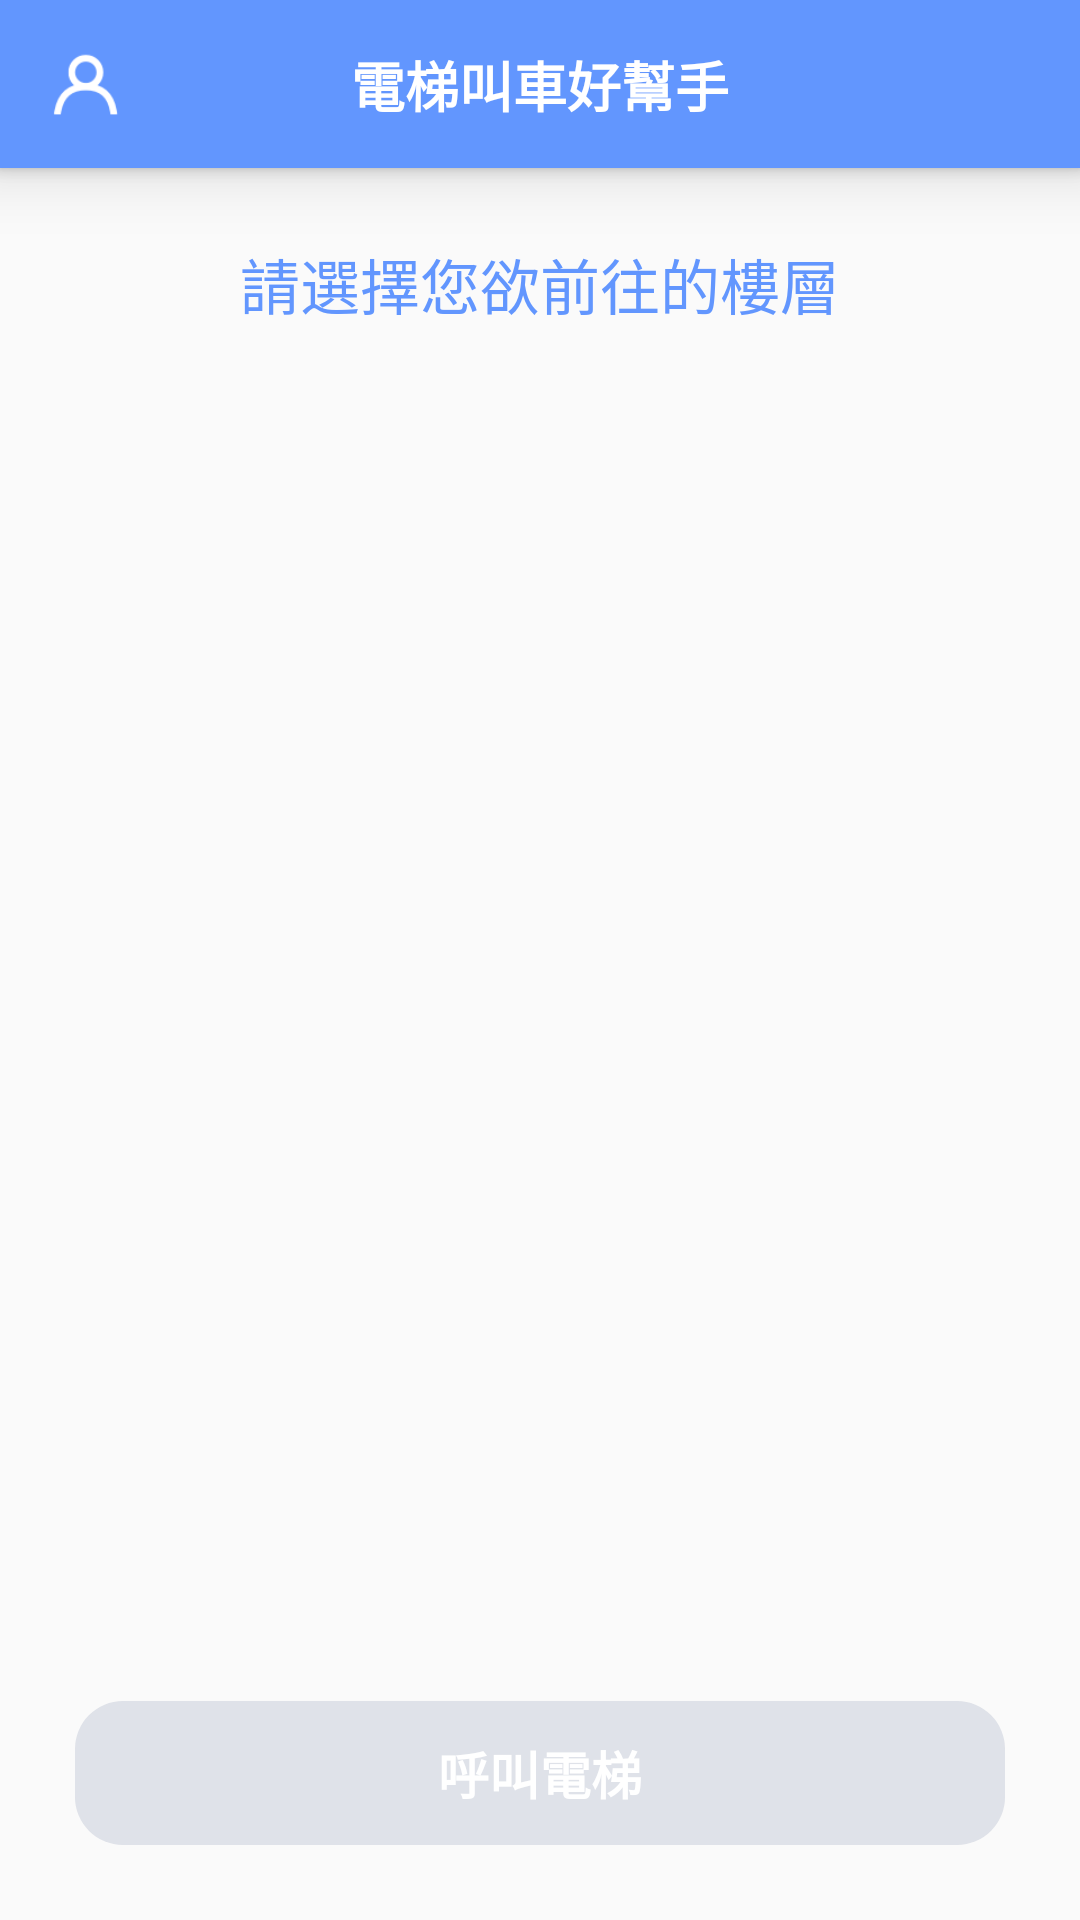

Icons on this 1080x1920 Android screen, each with its box as box(x1, y1, x2, y2):
profile: box(54, 54, 118, 115)
